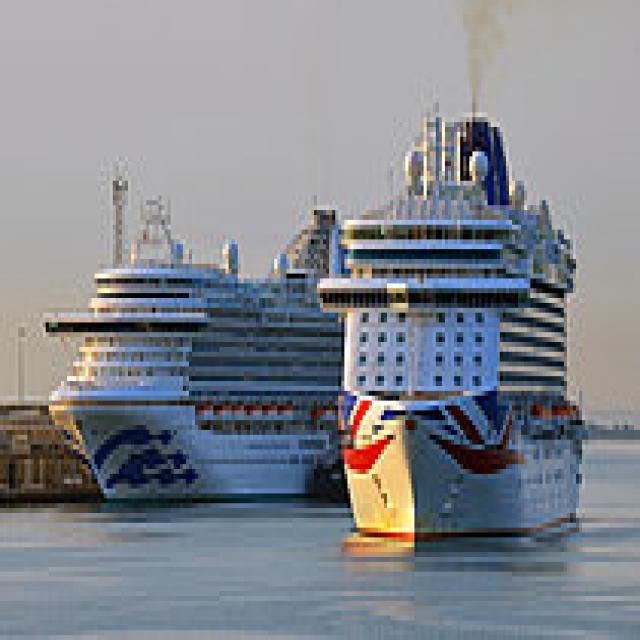Ship: (321, 108, 608, 558), (41, 157, 367, 509)
